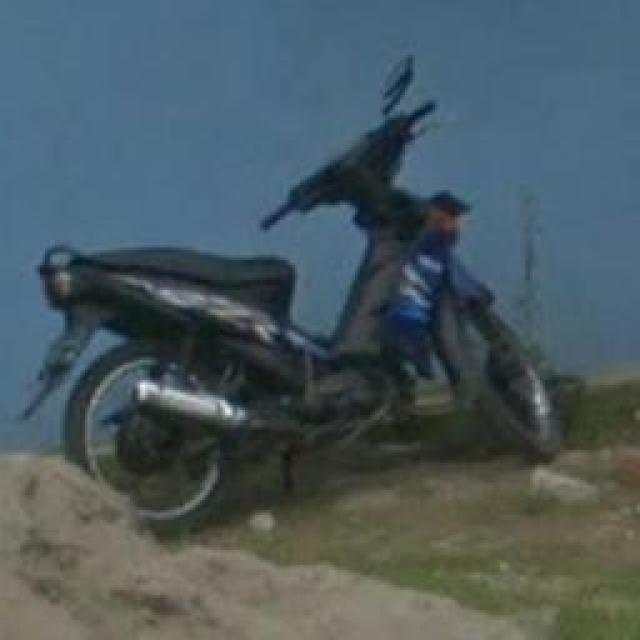Motor: (20, 60, 570, 538)
